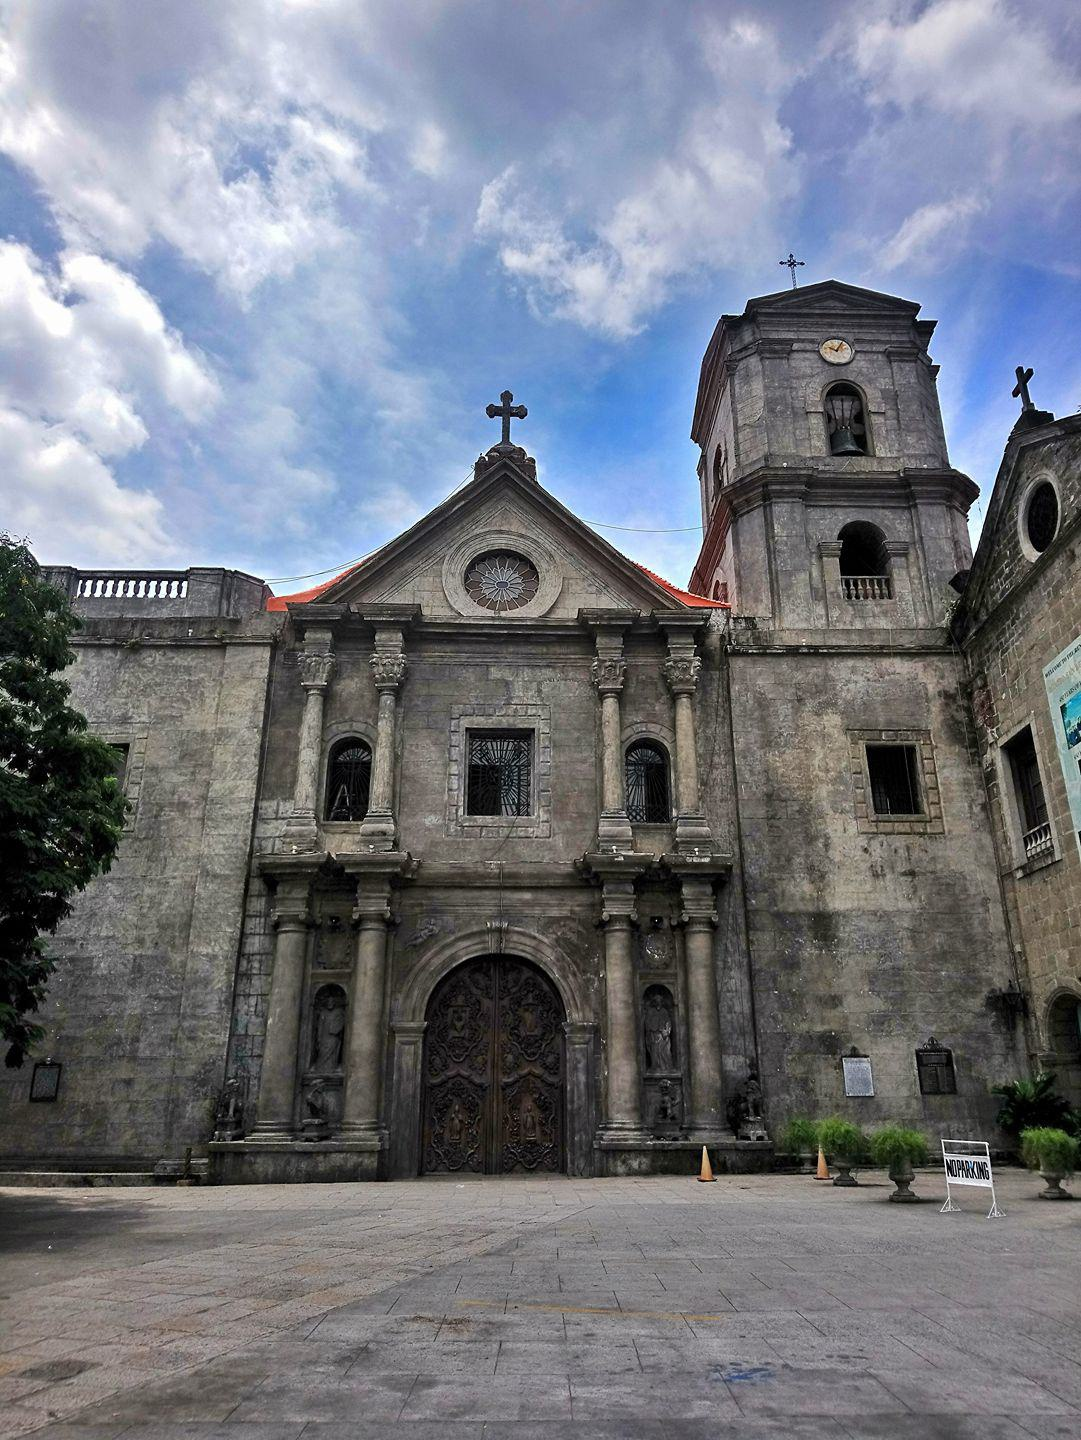san_agustin_church_intramuros_manila: (248, 215, 1038, 1190)
